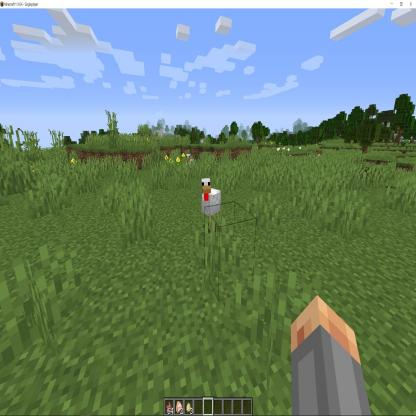minecraft-pigs: (200, 174, 224, 232), (184, 150, 196, 176)
